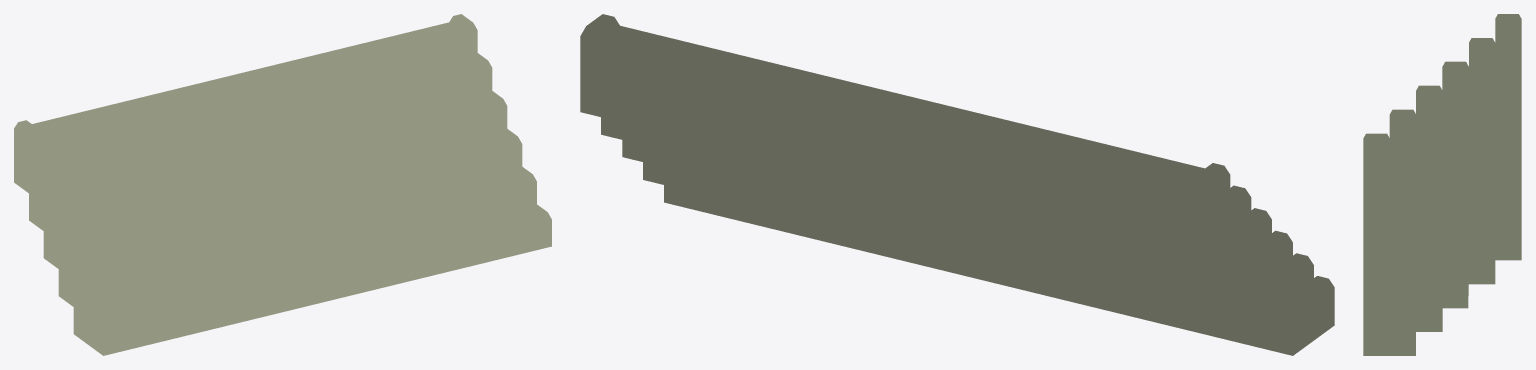
Rendered from simple_stairs.dae.
The picture shows the model from 3 angles, left to right: view 1: azimuth 30°, elevation 25°; view 2: azimuth 150°, elevation 25°; view 3: azimuth 270°, elevation 25°; orthographic projection. The views are drawn at different scales.
Visible parts, largest first — view 1: cube1-0; view 2: cube1-0; view 3: cube1-0.
Boxes of the visible parts, x1,y1,x2,y2 form: cube1-0: [14, 14, 551, 355]; cube1-0: [580, 14, 1334, 355]; cube1-0: [1363, 14, 1521, 355].
Bounding box in the file's own units: 1.77 × 0.6356 × 0.6098.
